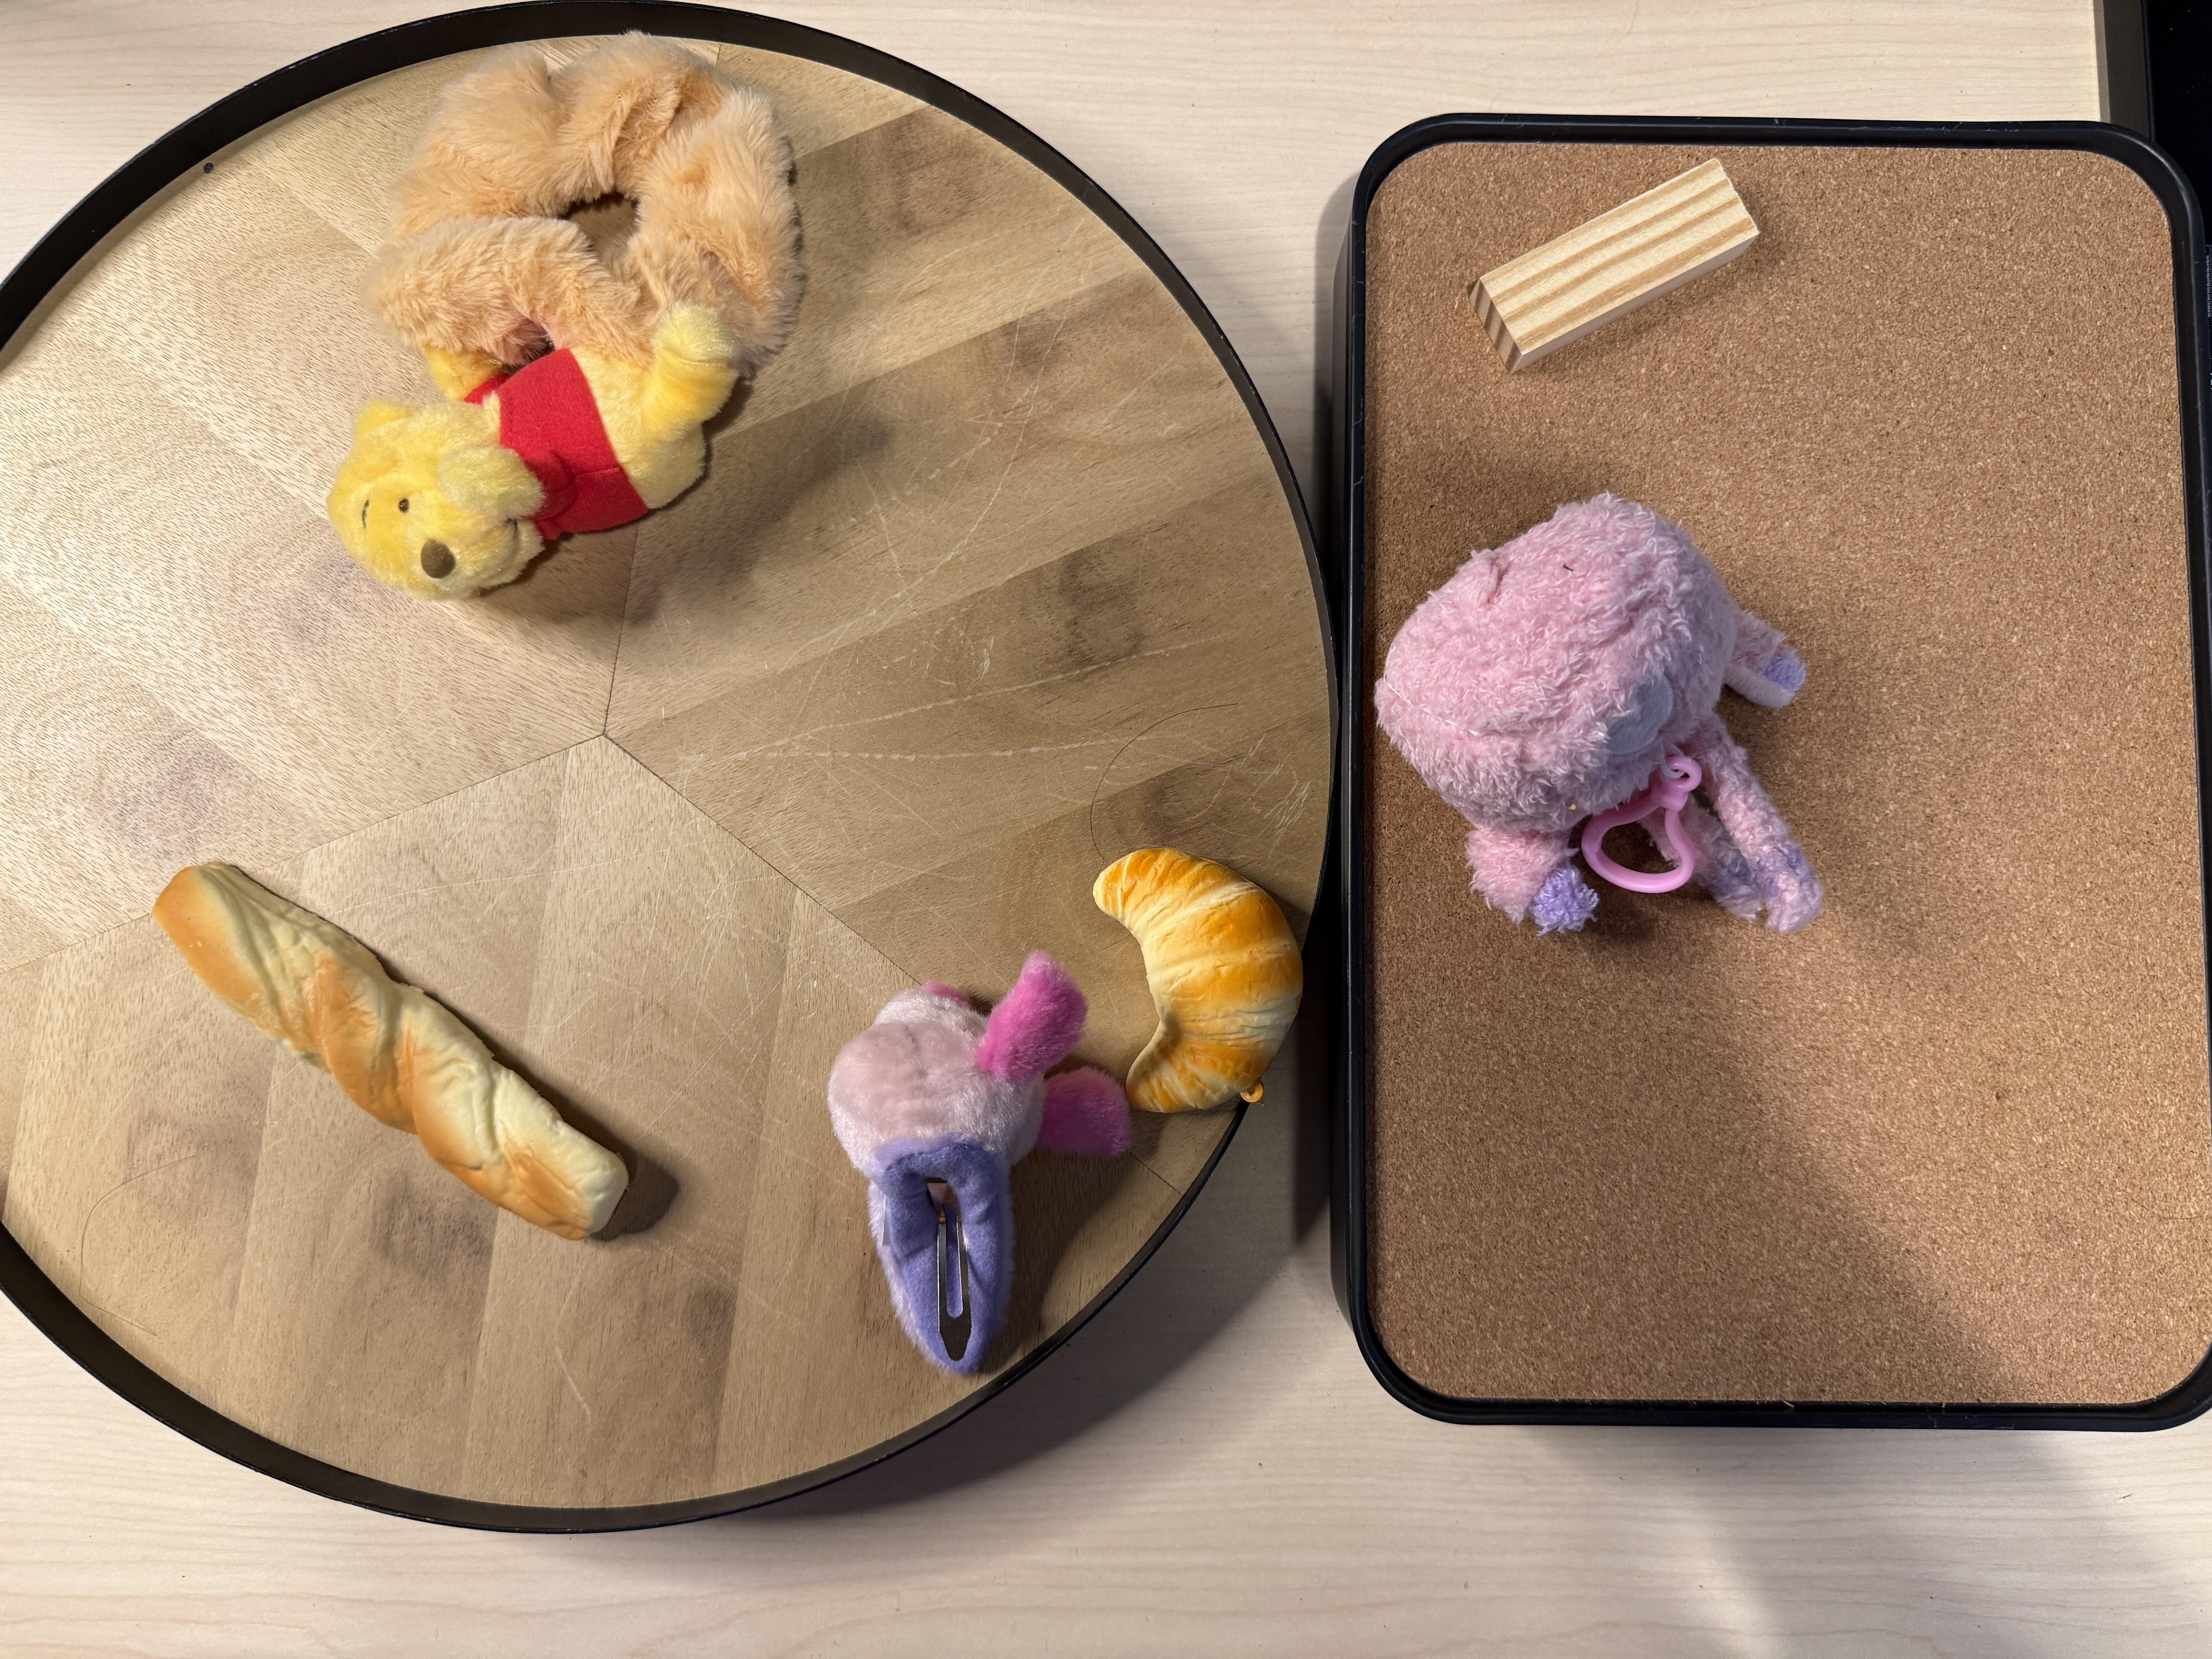block: (1468, 152, 1763, 369)
bread: (145, 856, 634, 1239)
doll: (322, 59, 806, 612), (1369, 486, 1825, 938), (836, 948, 1132, 1378)
